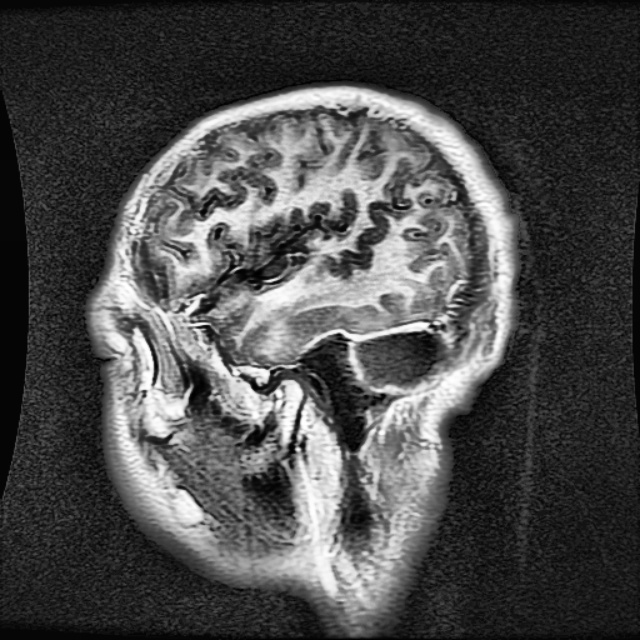Meningioma: (352, 334, 448, 388)
